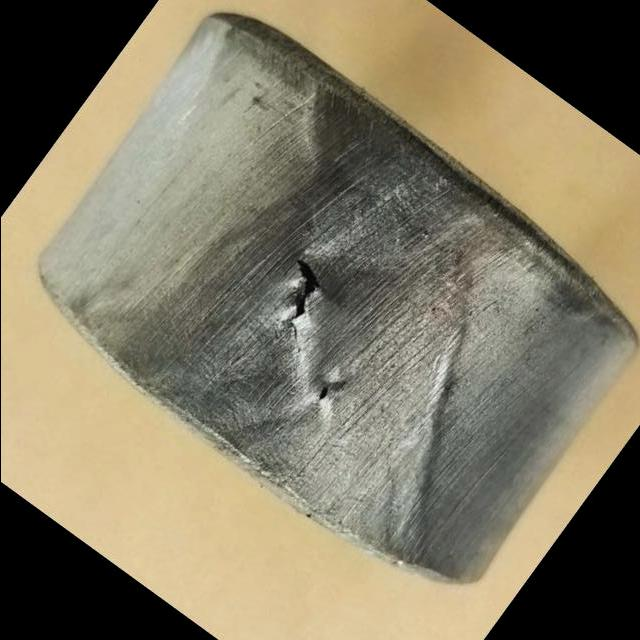defect: (284, 249, 325, 358)
